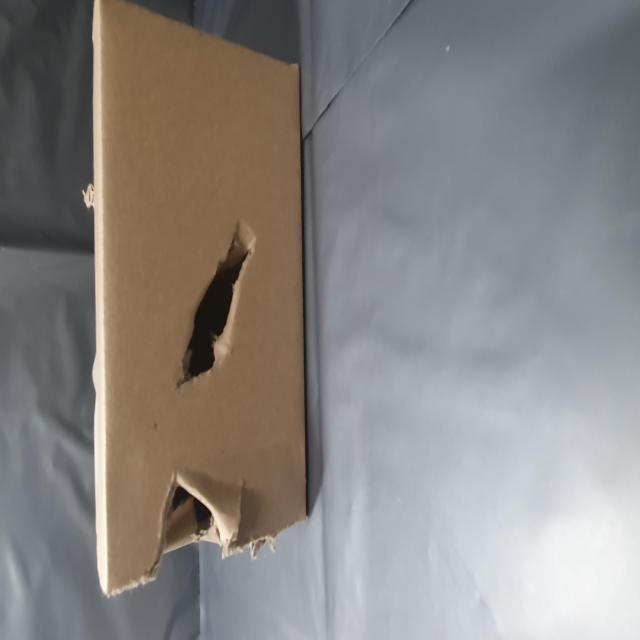damaged: (131, 314, 251, 482), (31, 254, 99, 452)
